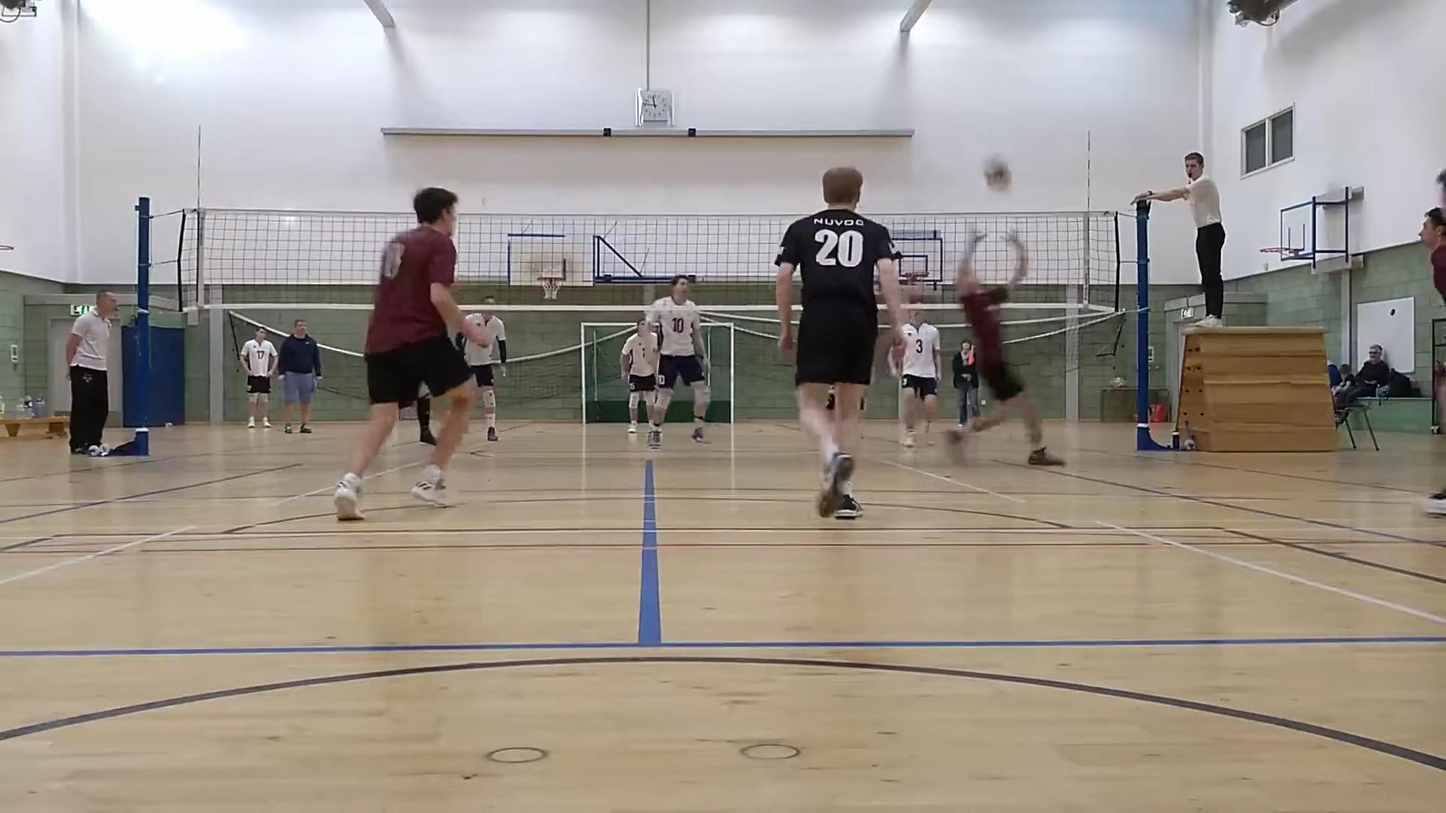alzata: (946, 216, 1069, 467)
